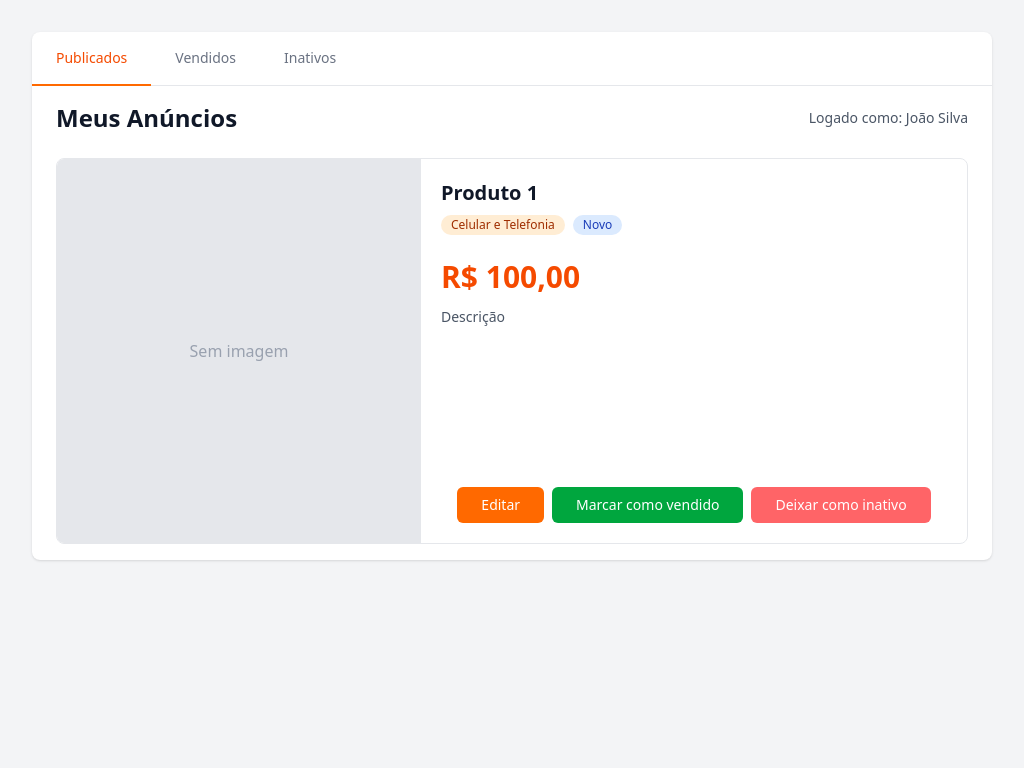
MeusAnuncios Component › deve abrir modal ao clicar em "Deixar como inativo"
Expected: the heading "Produto 1" is shown, top-left (441, 179), bottom-right (538, 206)
Click the button "Deixar como inativo" at (841, 505), box top-left (752, 487), bottom-right (931, 523)
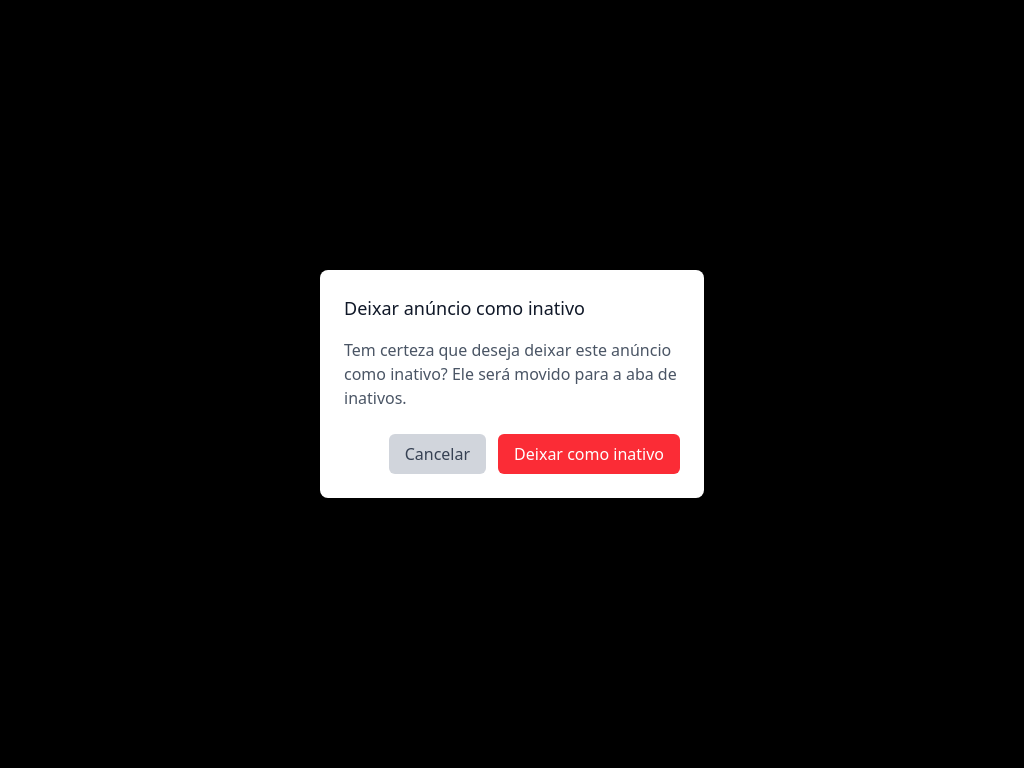
Expected: the text "Tem certeza que deseja deixar este anúncio como inativo" is shown, top-left (344, 339), bottom-right (677, 409)
